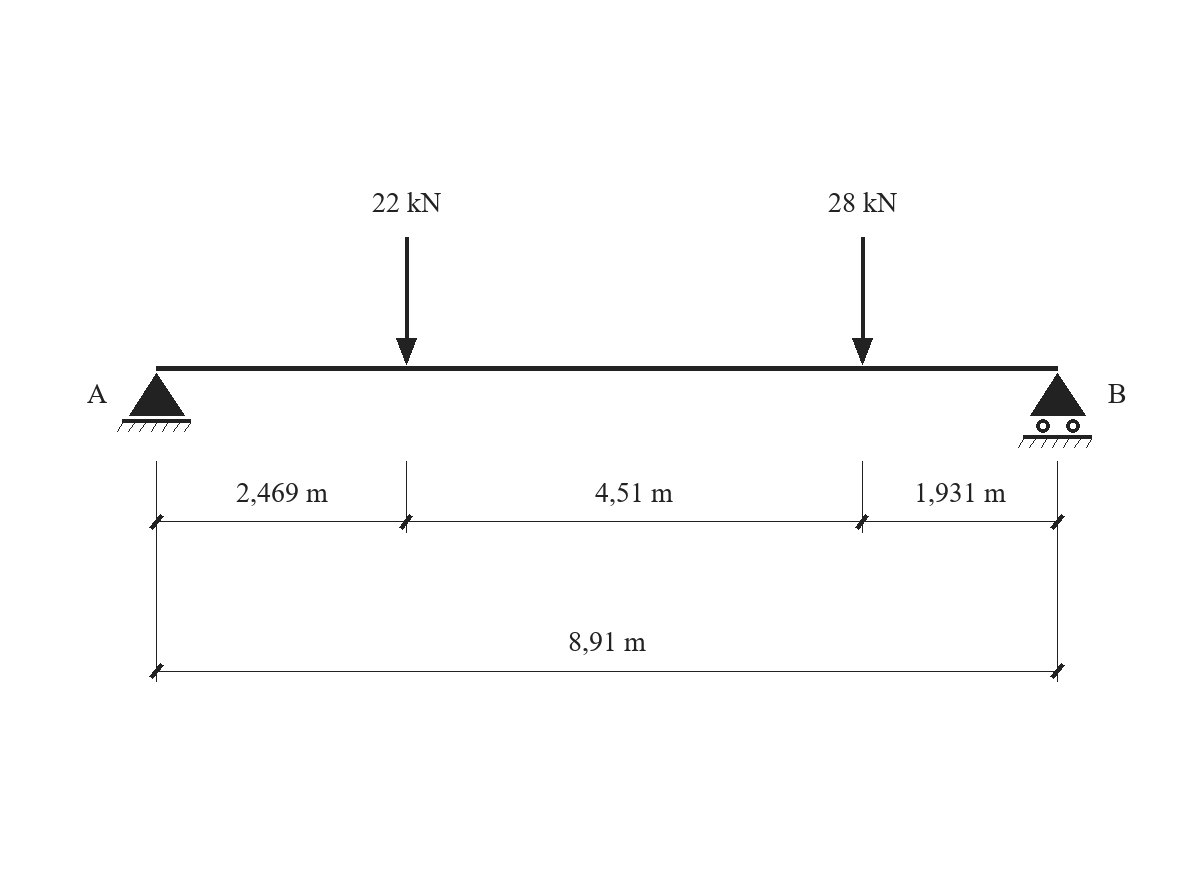pin_support: (117, 373, 191, 432)
point_load: (396, 237, 417, 365), (852, 237, 873, 365)
roller_support: (1018, 373, 1092, 448)
